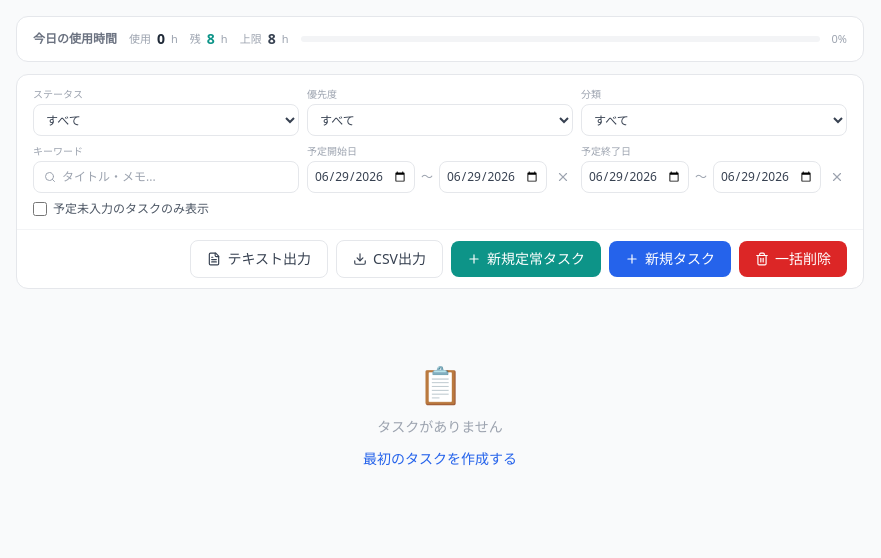
Scenario: Phase4 TaskListPage bulk selection DOM › TC-CB-274 TD095 TV095 TA019 R017 TaskListPage can select multiple visible tasks
This screenshot has width=881, height=558.
Click the button named "予定開始日フィルタをクリア": {"x": 563, "y": 177} [553,161,573,193]
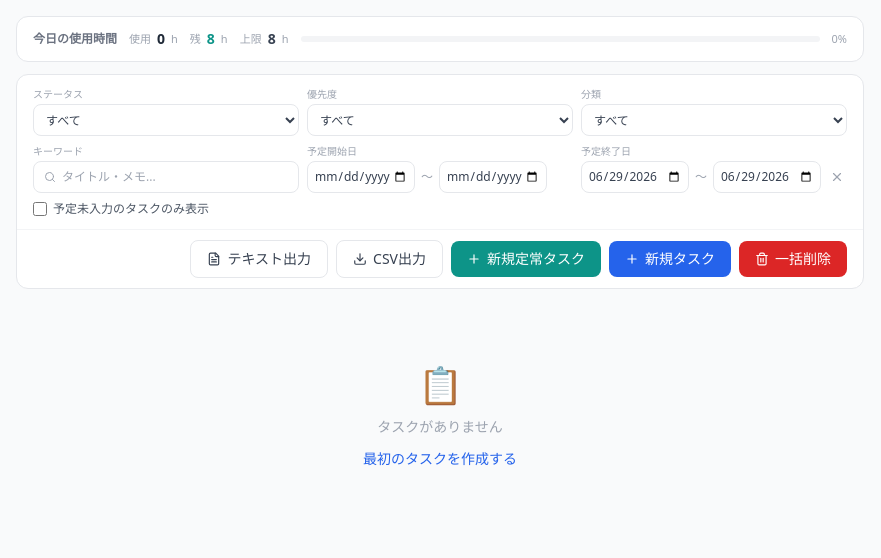
Click the button named "予定終了日フィルタをクリア": {"x": 837, "y": 177} [827,161,847,193]
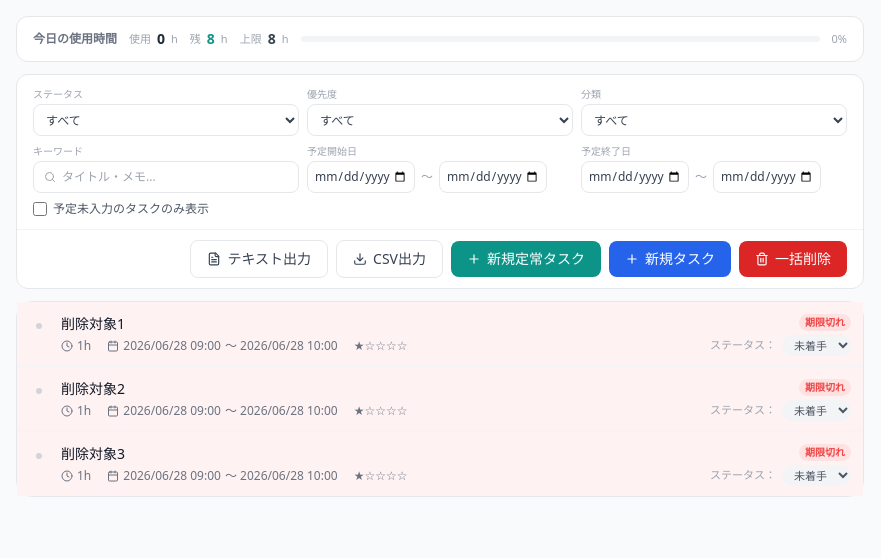
Click the button "一括削除": {"x": 793, "y": 259} [739,241,847,277]
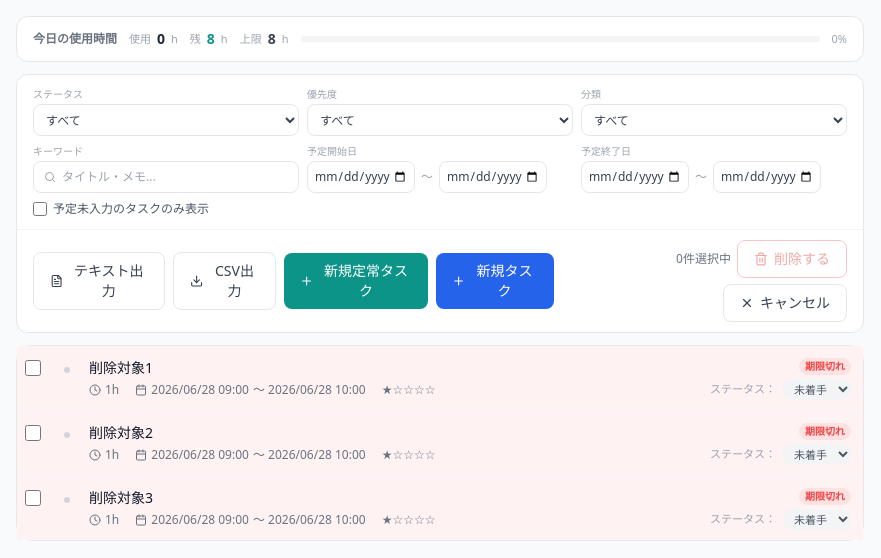
Click the checkbox next to "削除対象1": {"x": 33, "y": 368} [25,360,41,376]
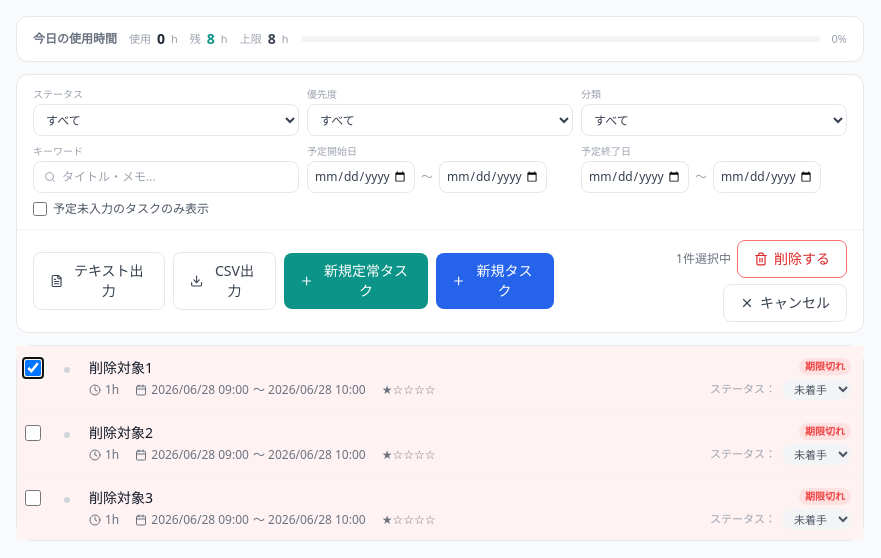
Click the checkbox next to "削除対象3": {"x": 33, "y": 498} [25,490,41,506]
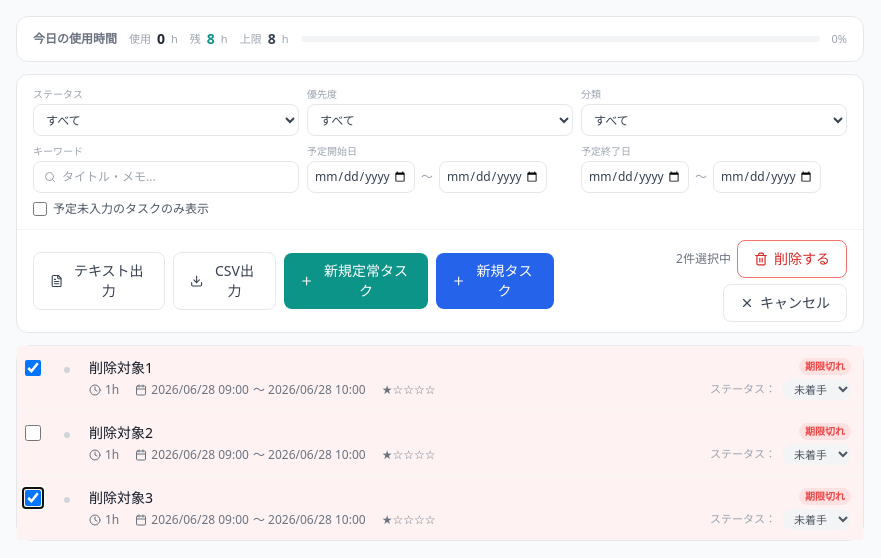
Check: the text "2件選択中" is shown, box [676,251,731,267]
